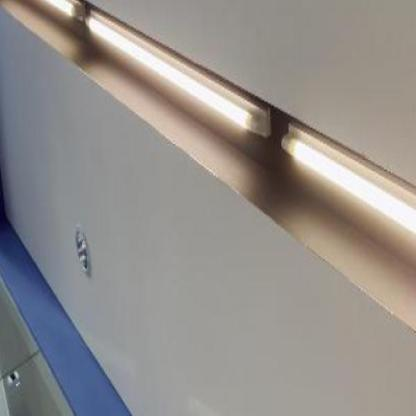light_on: (84, 0, 262, 182), (280, 108, 415, 320), (0, 0, 86, 29)
